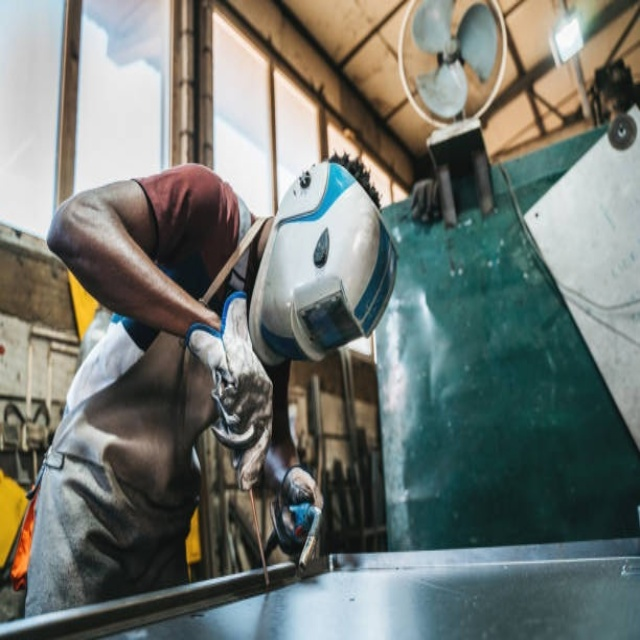Guantes: (187, 294, 275, 493), (268, 465, 324, 565)
